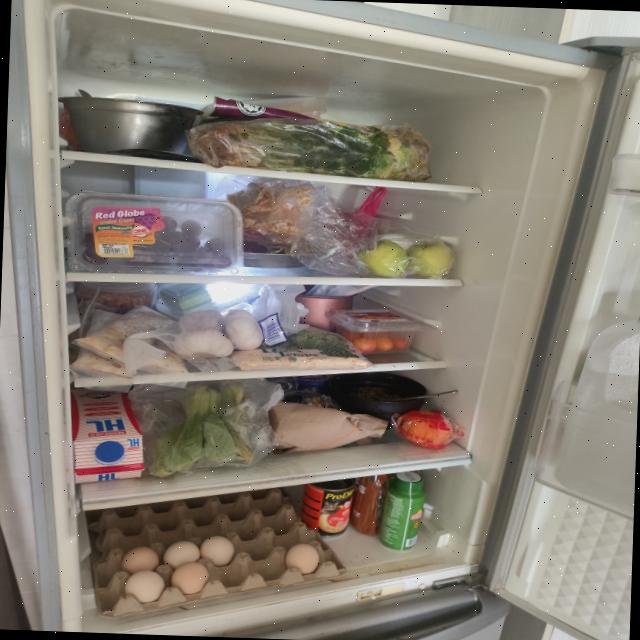apple: (356, 238, 454, 280)
egg: (83, 480, 350, 626)
garlic: (171, 307, 263, 360)
grape: (81, 212, 233, 270)
leafy_greens: (188, 116, 432, 182)
orange: (398, 409, 454, 448)
pakchoy: (148, 378, 256, 480)
tempeh: (68, 302, 192, 381), (228, 345, 370, 375)
